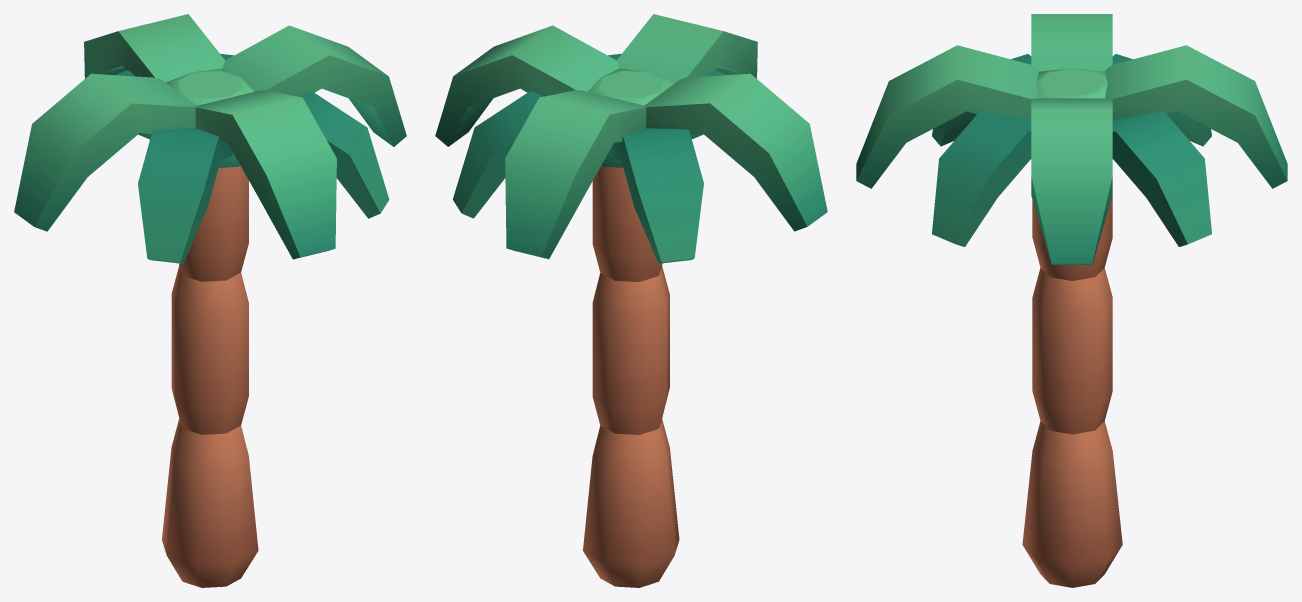
File: palm-detailed-straight.glb
3 renders of one model, left to right at view 1: azimuth 30°, elevation 25°; view 2: azimuth 150°, elevation 25°; view 3: azimuth 270°, elevation 25°, orthographic.
Visible parts, largest first — view 1: palm-detailed-straight; view 2: palm-detailed-straight; view 3: palm-detailed-straight.
Boxes of the visible parts, box(x1,y1,x2,y2) form: palm-detailed-straight: box(14, 14, 406, 587); palm-detailed-straight: box(435, 14, 827, 587); palm-detailed-straight: box(856, 14, 1287, 587).
Size of the model in its own units: 3.22 by 4.21 by 3.22.
Materials: 1 (1 with a texture image).
